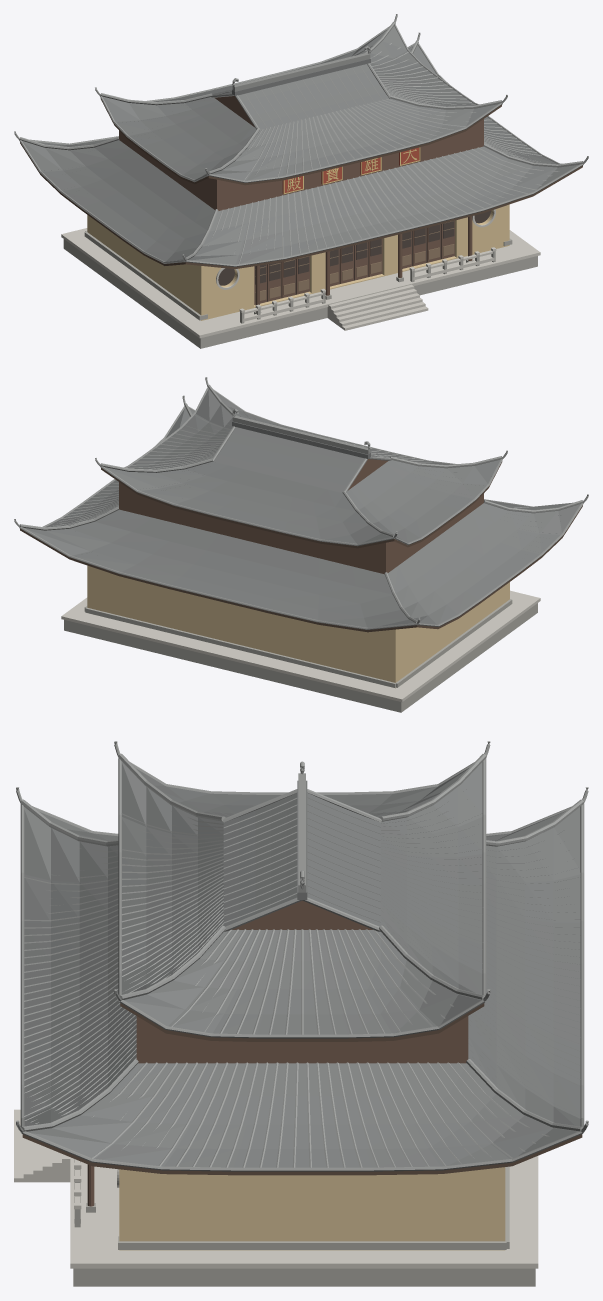
File: putuo-jade-buddha-mahavira-hall-lod.glb
The picture shows the model from 3 angles, top to bottom: view 1: azimuth 30°, elevation 25°; view 2: azimuth 150°, elevation 25°; view 3: azimuth 270°, elevation 25°; orthographic projection. The views are drawn at different scales.
Visible parts, largest first — view 1: 玉佛禅寺大雄宝殿; view 2: 玉佛禅寺大雄宝殿; view 3: 玉佛禅寺大雄宝殿.
Boxes of the visible parts, x1,y1,x2,y2 form: 玉佛禅寺大雄宝殿: (14, 14, 588, 348); 玉佛禅寺大雄宝殿: (14, 377, 588, 712); 玉佛禅寺大雄宝殿: (14, 741, 588, 1286).
Bounding box in the file's own units: 29.74 × 13.74 × 21.57.
